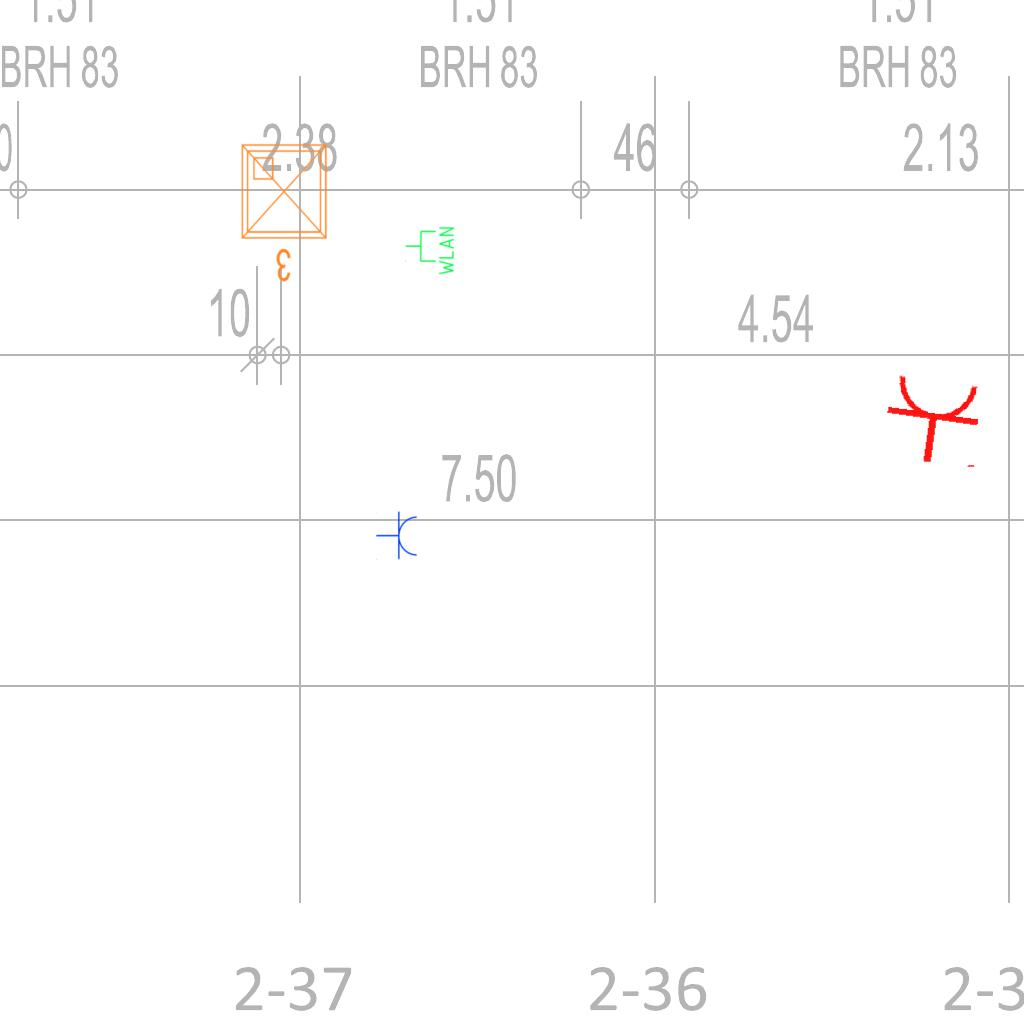Einbaudownlights_LED_Konferenzraeume: (234, 137, 338, 287)
Schukosteckdose_einfach: (878, 370, 991, 472), (376, 511, 419, 561)
WLAN: (404, 225, 456, 277)
